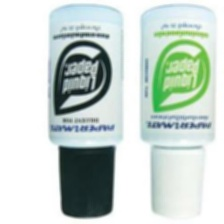correction_fluid: (45, 3, 126, 220), (139, 3, 218, 220)
